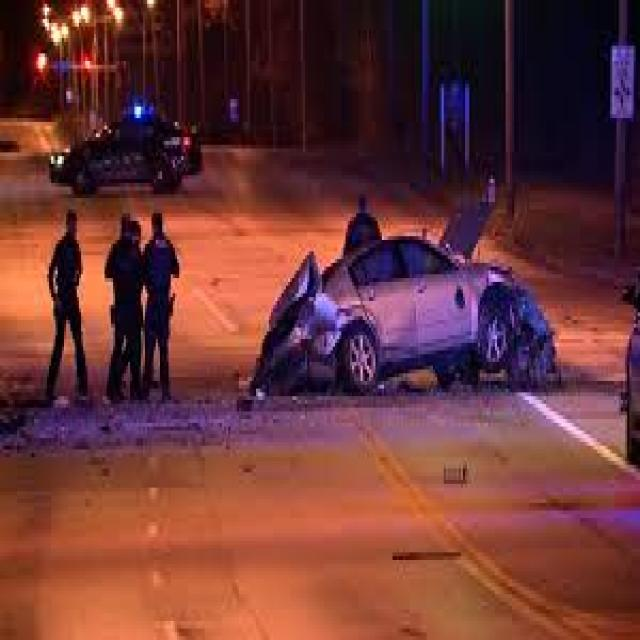accident: (252, 232, 556, 430)
